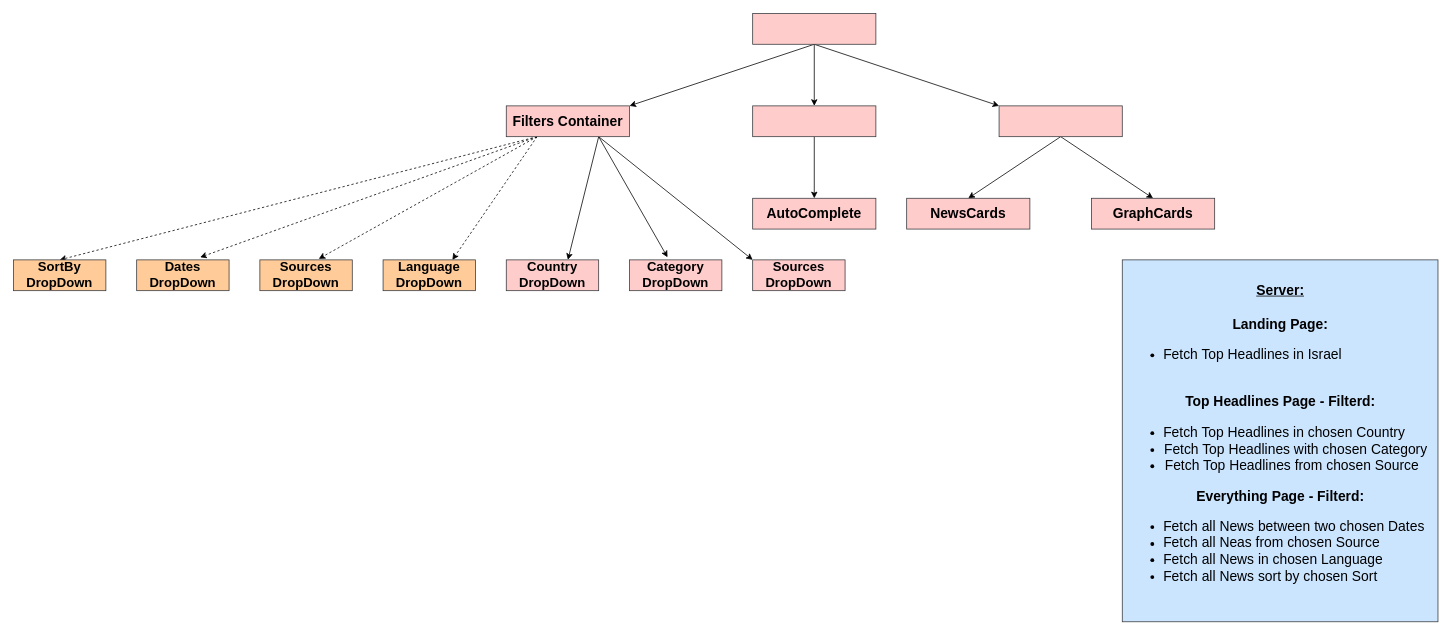
Some shapes in this 1451 by 635 pixel diagram are drawn without their labels. Each missing label, with the box of its shape:
Landing Page: (752, 13, 876, 44)
Main: (998, 105, 1122, 137)
Navbar: (752, 105, 876, 137)
